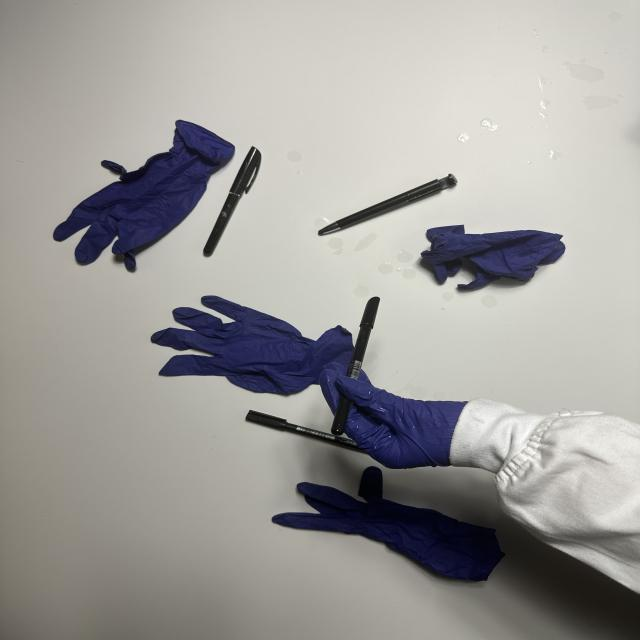gloves_contaminated: (319, 364, 466, 469)
